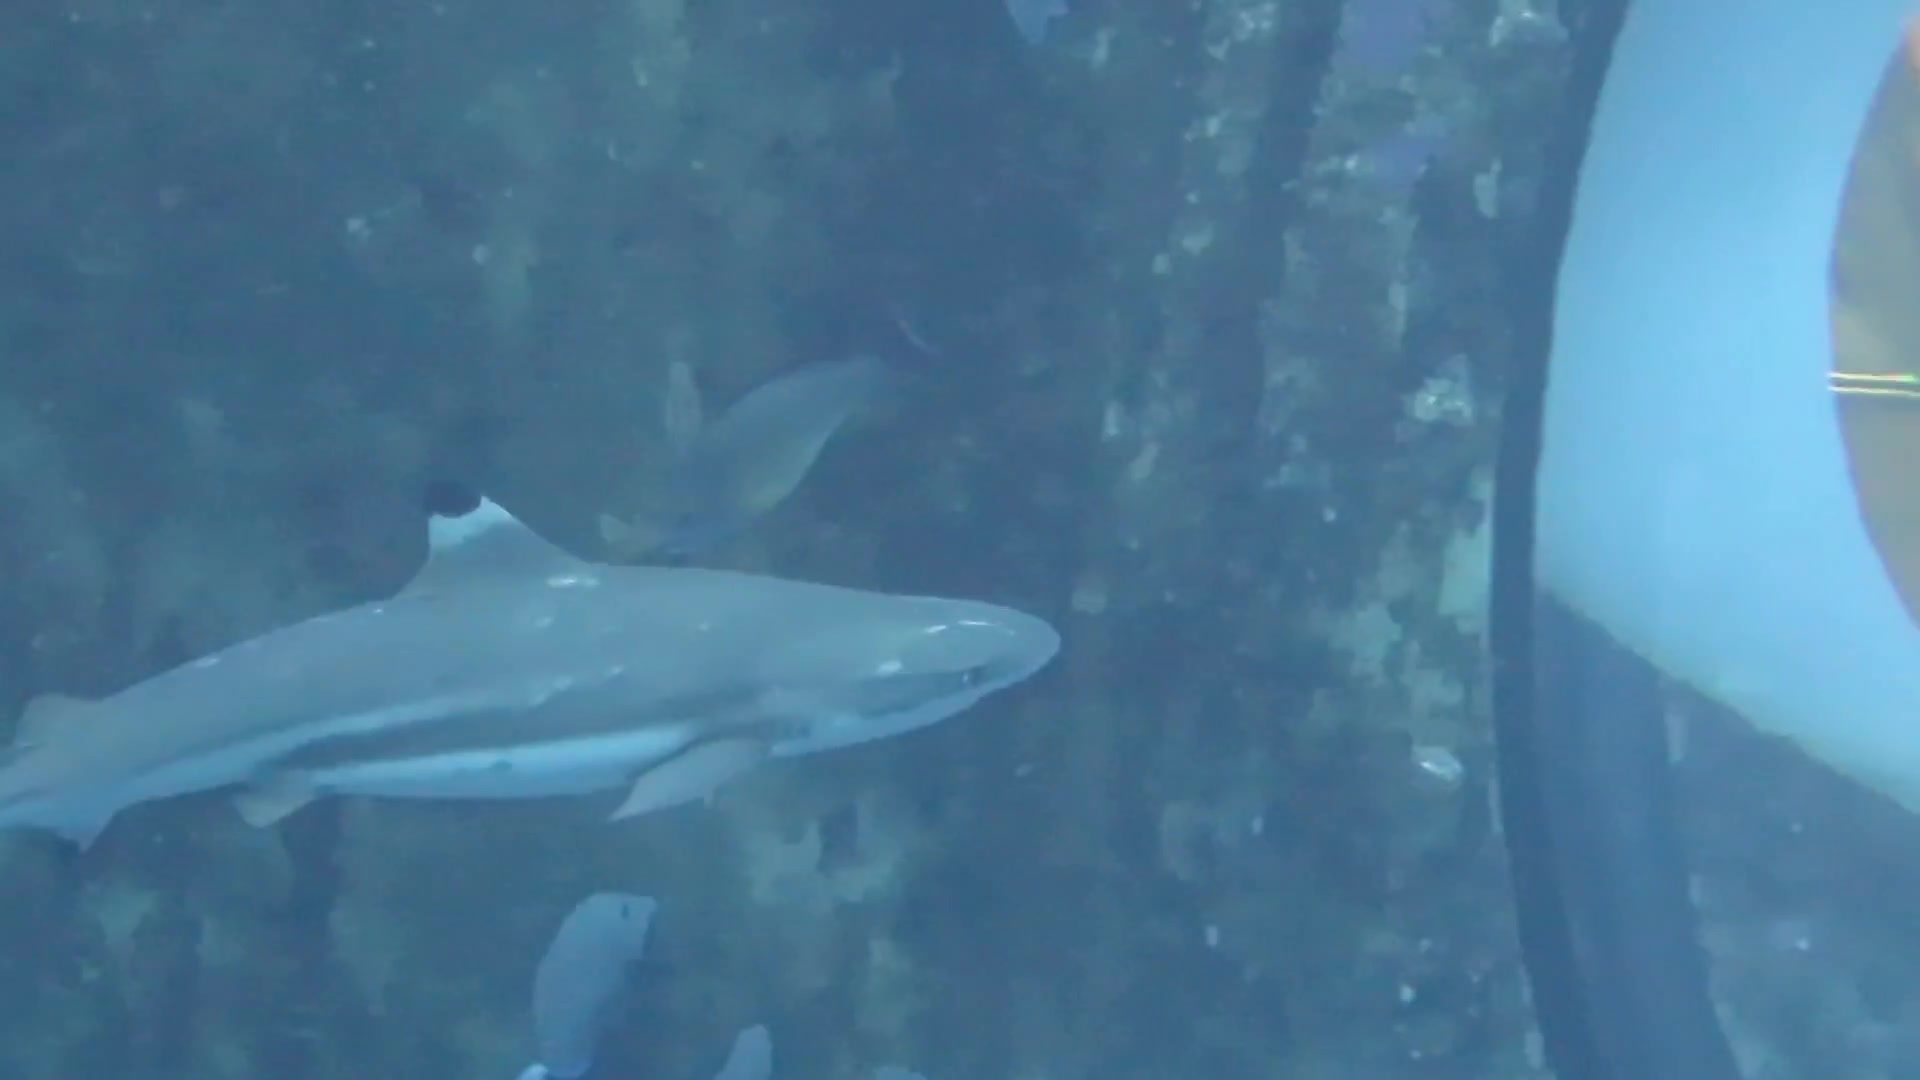Carcharhinus melanopterus: (1, 467, 1079, 872)
